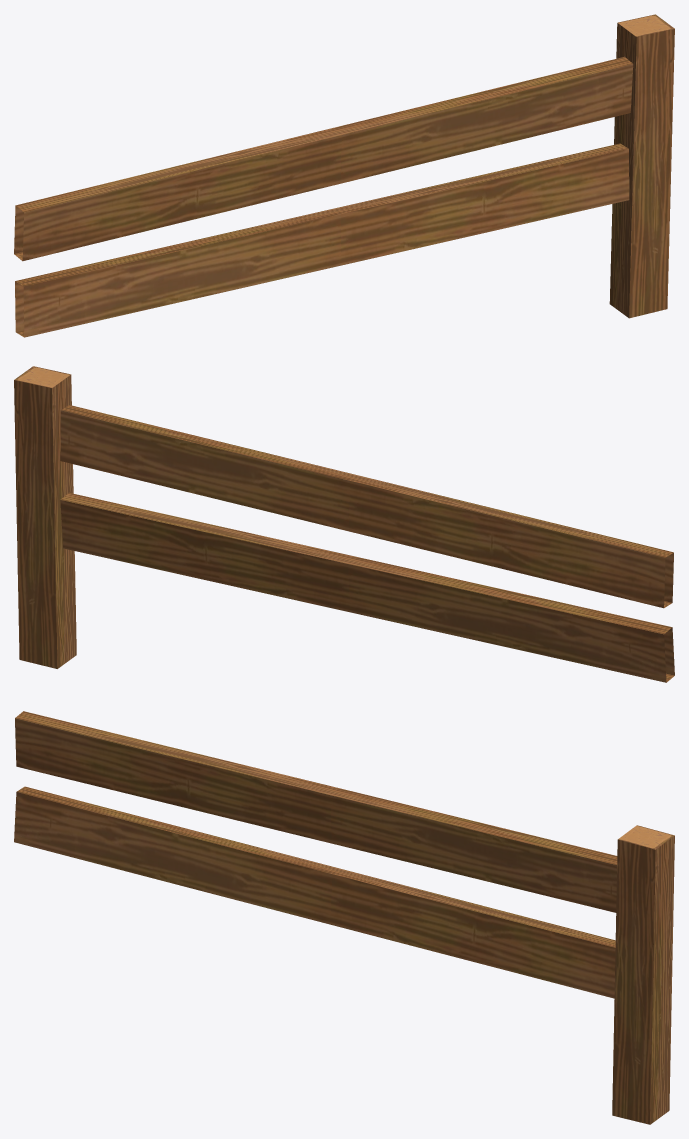
The model's file is Prop_WoodenFence_Extension2.glb.
3 views of the same model, one above another, from view 1: azimuth 30°, elevation 25°; view 2: azimuth 150°, elevation 25°; view 3: azimuth 330°, elevation 25° (orthographic).
Visible parts, largest first — view 1: Prop_WoodenFence_Extension2; view 2: Prop_WoodenFence_Extension2; view 3: Prop_WoodenFence_Extension2.
Part boxes in pixels (bbox=[...]): Prop_WoodenFence_Extension2: bbox=[14, 14, 674, 337]; Prop_WoodenFence_Extension2: bbox=[14, 366, 674, 682]; Prop_WoodenFence_Extension2: bbox=[14, 711, 674, 1124].
Bounding box in the file's own units: 2.03 × 0.8382 × 0.1104.
Materials: 1 (1 with a texture image).
